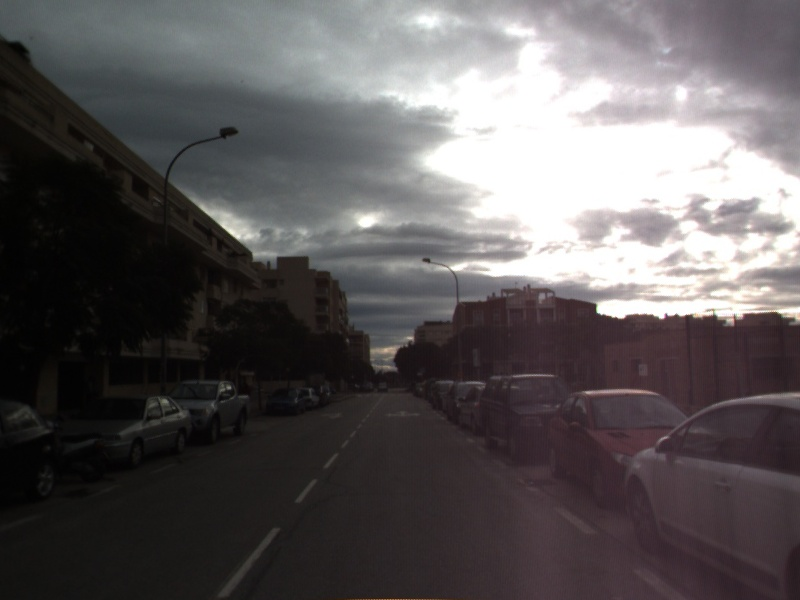STRAIGHT_LEFT_RIGHT: (383, 408, 422, 419)
